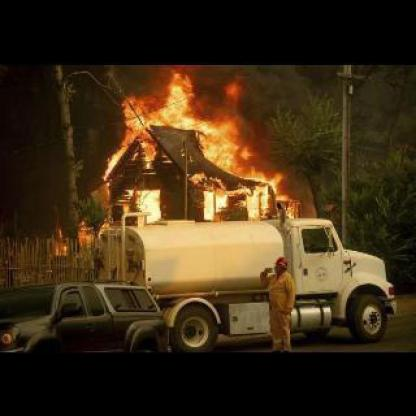fire: (84, 66, 303, 222)
